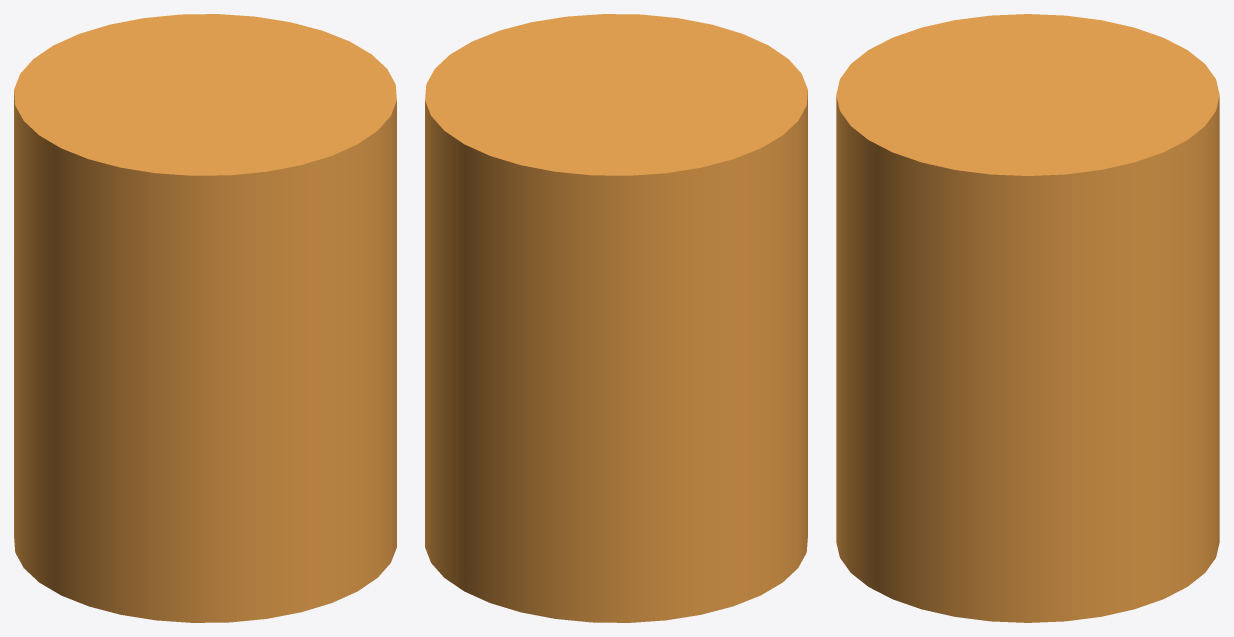
Rendered from pin.glb.
3 renders of one model, left to right at view 1: azimuth 30°, elevation 25°; view 2: azimuth 150°, elevation 25°; view 3: azimuth 270°, elevation 25°, orthographic.
Visible parts, largest first — view 1: pin; view 2: pin; view 3: pin.
Part boxes in pixels (box(x1,y1,x2,y2)): pin: box(14, 14, 396, 622); pin: box(425, 14, 807, 622); pin: box(836, 14, 1219, 622).
Size of the model in its own units: 0.56 by 0.72 by 0.56.
